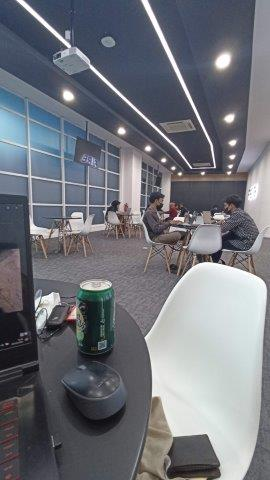kaleng: (76, 279, 115, 355)
